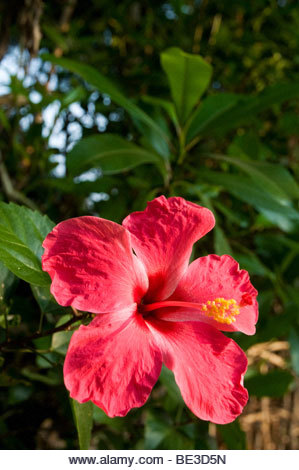Hibiscus: (51, 191, 265, 431)
